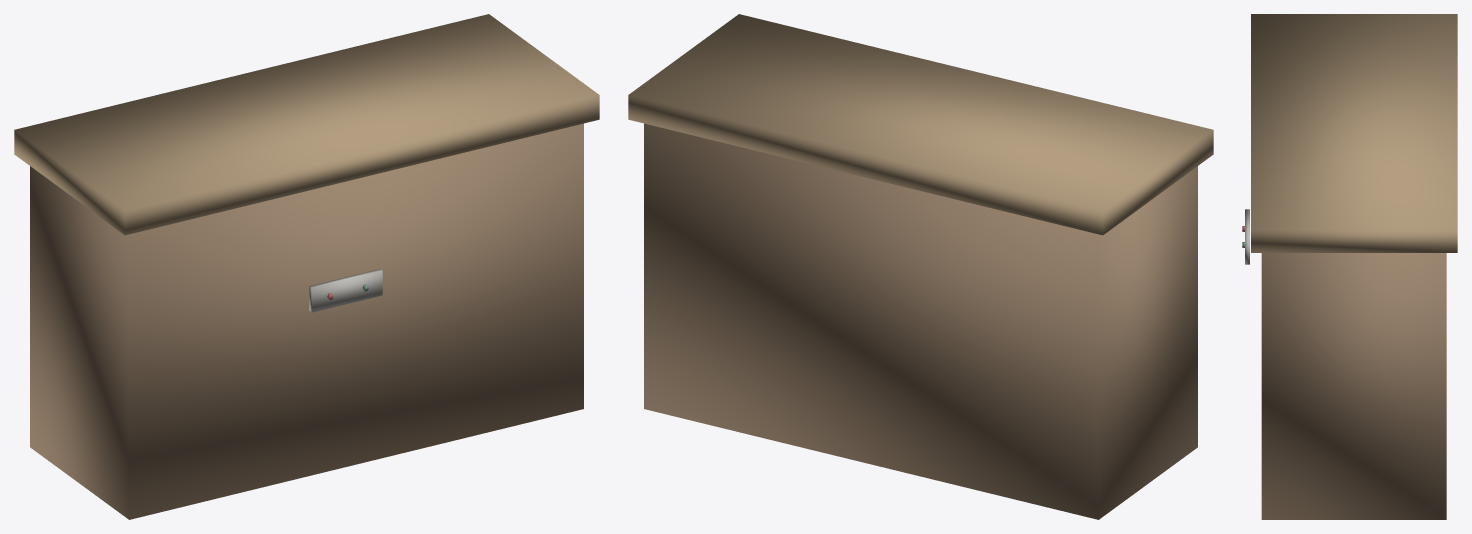
File: funeral_reception_counter__tall.glb
The picture shows the model from 3 angles, left to right: view 1: azimuth 30°, elevation 25°; view 2: azimuth 150°, elevation 25°; view 3: azimuth 270°, elevation 25°; orthographic projection. The views are drawn at different scales.
Visible parts, largest first — view 1: world; view 2: world; view 3: world.
Part boxes in pixels (x1,y1,x2,y2): world: [14, 14, 599, 519]; world: [628, 14, 1213, 519]; world: [1242, 14, 1457, 519].
Bounding box in the file's own units: 1.88 × 1.19 × 0.791.
